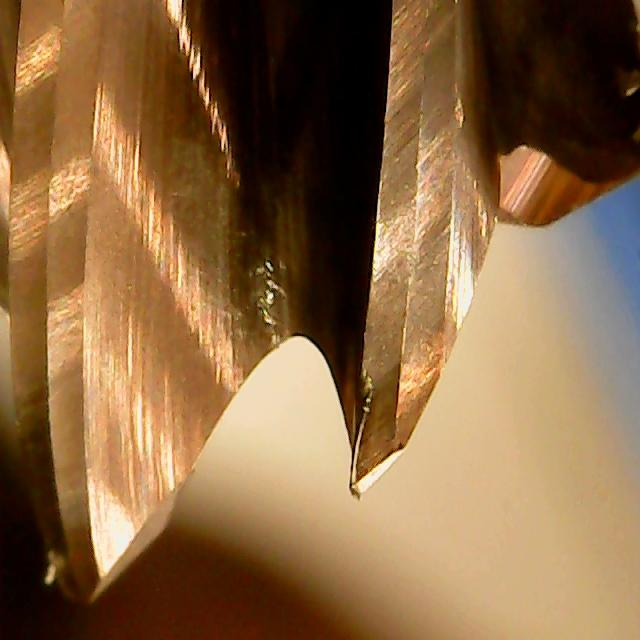Tool-wear-class-1: (340, 201, 461, 502)
